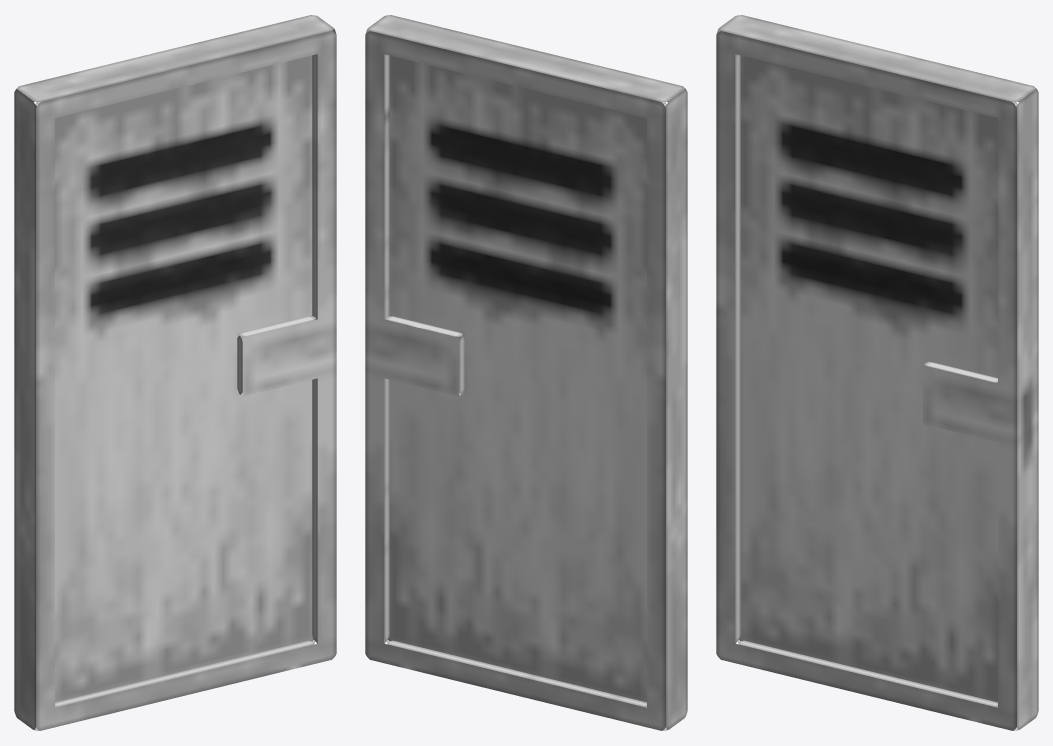
Rendered from Door.fbx.
3 views of the same model, side by side, from view 1: azimuth 30°, elevation 25°; view 2: azimuth 150°, elevation 25°; view 3: azimuth 330°, elevation 25° (orthographic).
Visible parts, largest first — view 1: Door; view 2: Door; view 3: Door.
Boxes of the visible parts, x1,y1,x2,y2 form: Door: (14, 15, 336, 730); Door: (365, 15, 687, 730); Door: (716, 15, 1038, 730).
Size of the model in its own units: 100 by 200 by 12.5.
1 material, 1 textured.
